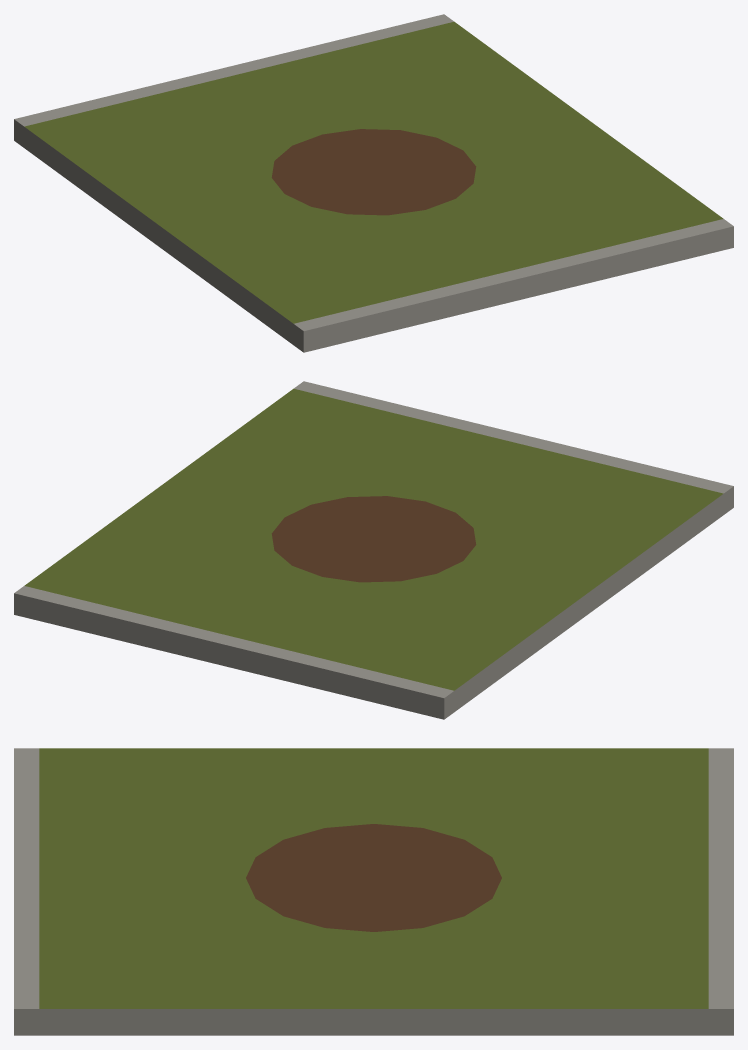
File: median_treewell_4p27.glb
3 renders of one model, top to bottom at view 1: azimuth 30°, elevation 25°; view 2: azimuth 150°, elevation 25°; view 3: azimuth 270°, elevation 25°, orthographic. The views are drawn at different scales.
Visible parts, largest first — view 1: median_treewell_4p27-col; view 2: median_treewell_4p27-col; view 3: median_treewell_4p27-col.
Part boxes in pixels (bbox=[...]): median_treewell_4p27-col: bbox=[14, 14, 733, 352]; median_treewell_4p27-col: bbox=[14, 381, 733, 719]; median_treewell_4p27-col: bbox=[14, 748, 733, 1035].
Size of the model in its own units: 3.66 by 0.179 by 4.27.
